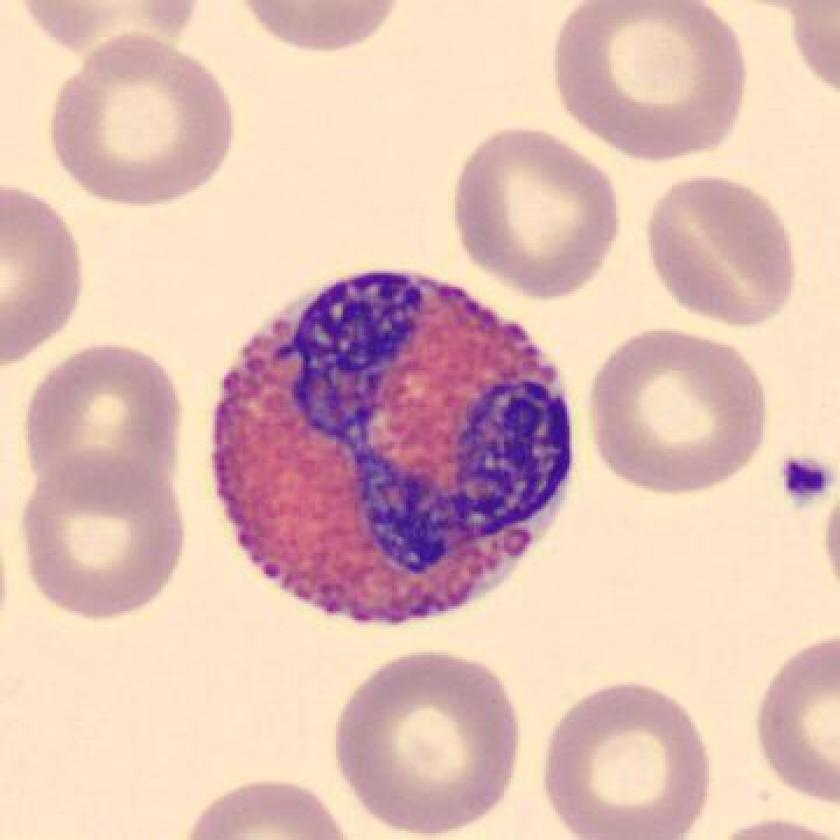eosinophil: (204, 253, 587, 640)
